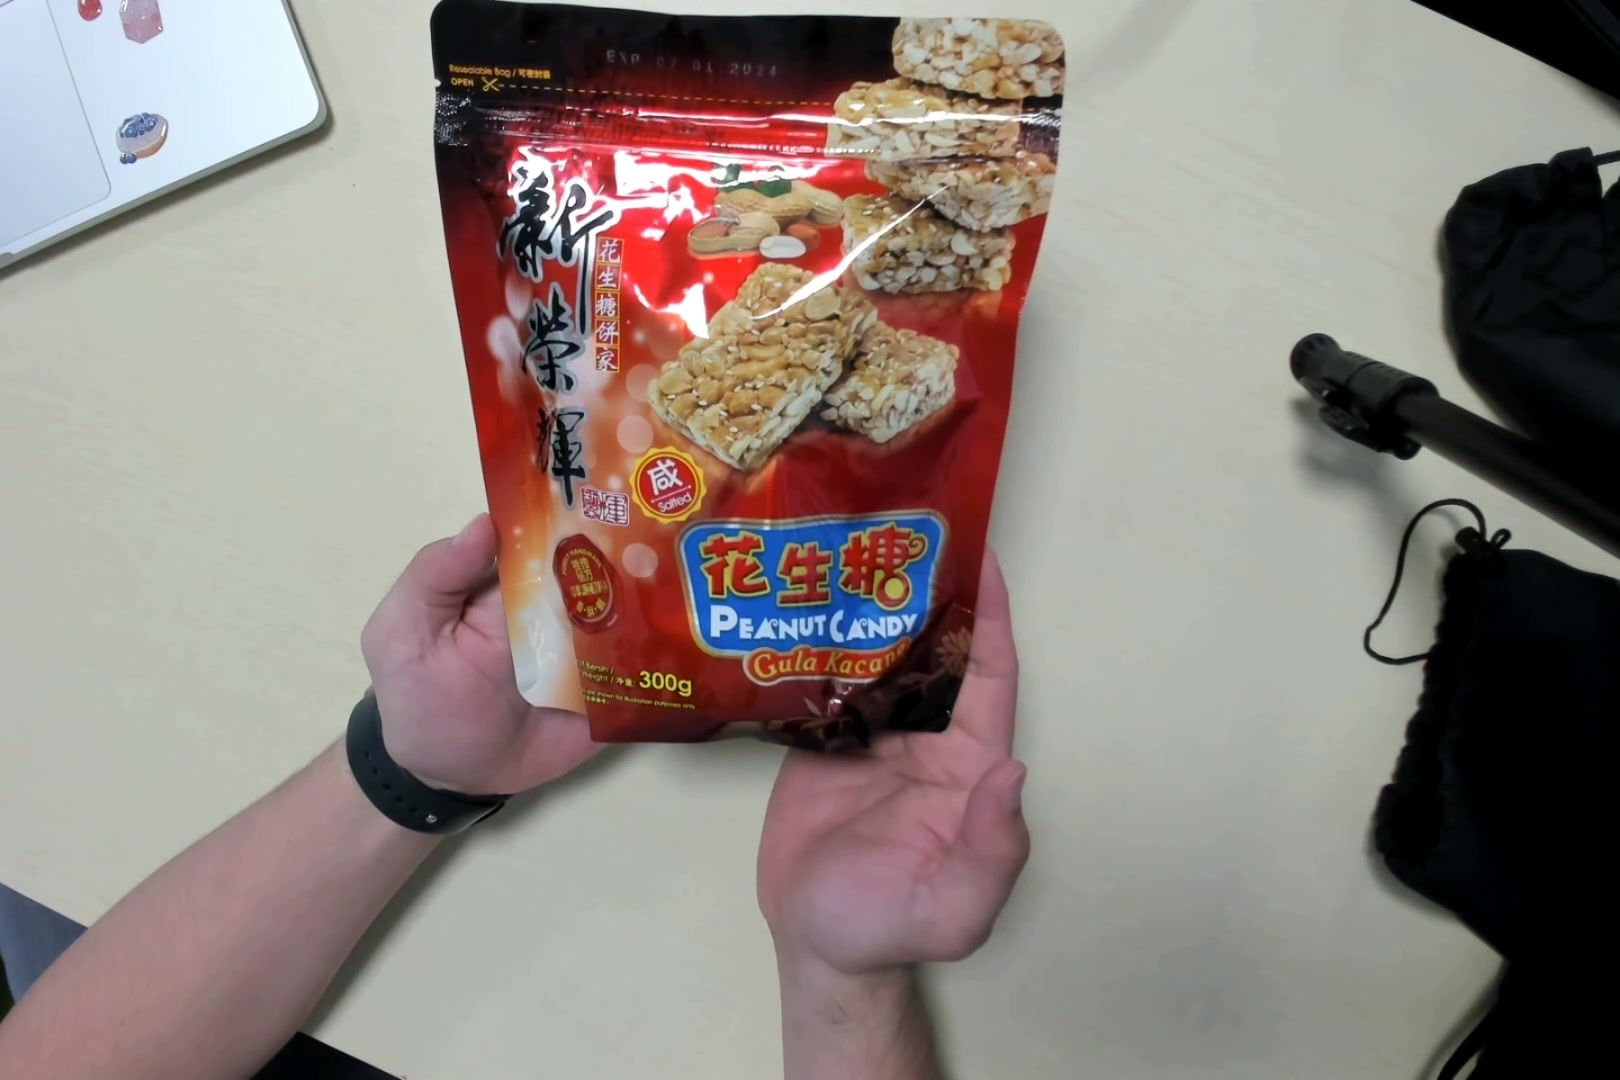SweetsChocolatesOthers_300-399g_NonHalal_NonHealthy: (429, 1, 1064, 756)
